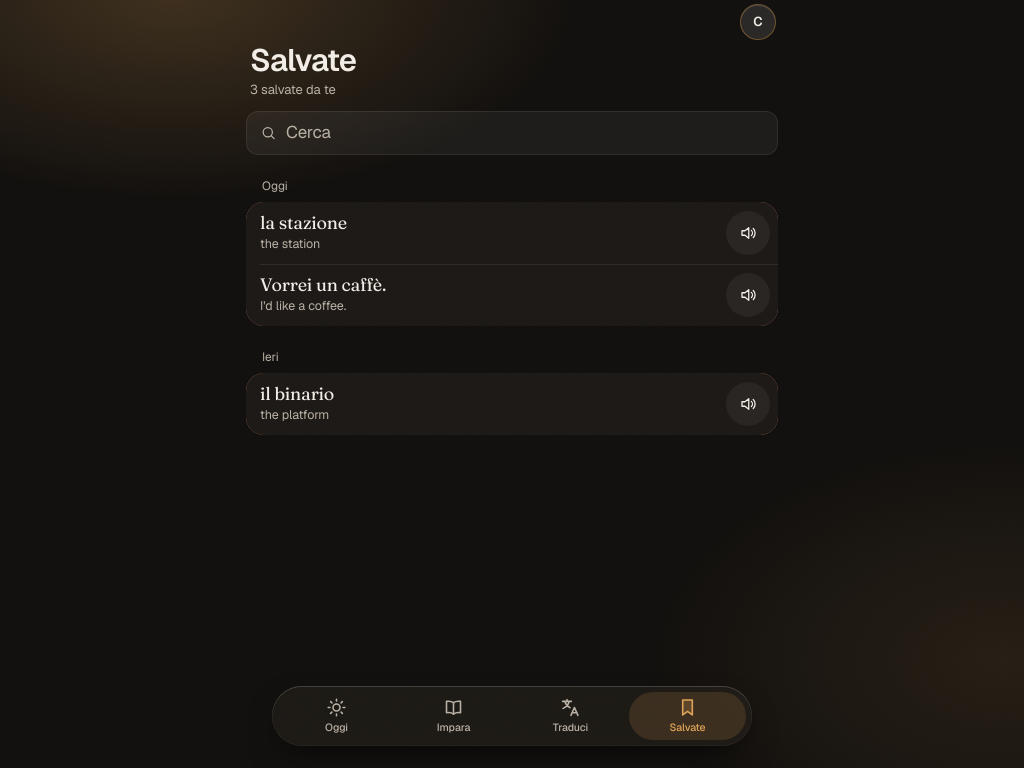
Test: Salvate › puts the row back when the delete fails
The width and height of the screenshot is (1024, 768).
Click the text "il binario" at [297, 394], box [260, 382, 334, 405]
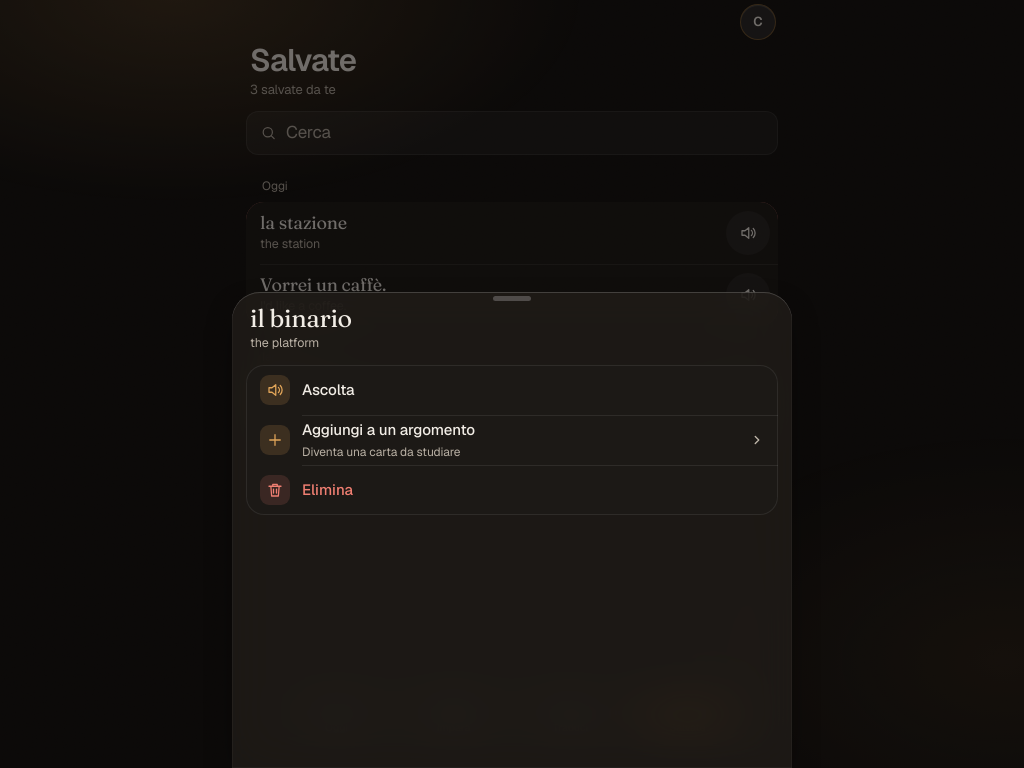
Click the button "Elimina" at [327, 489], box [246, 465, 778, 515]
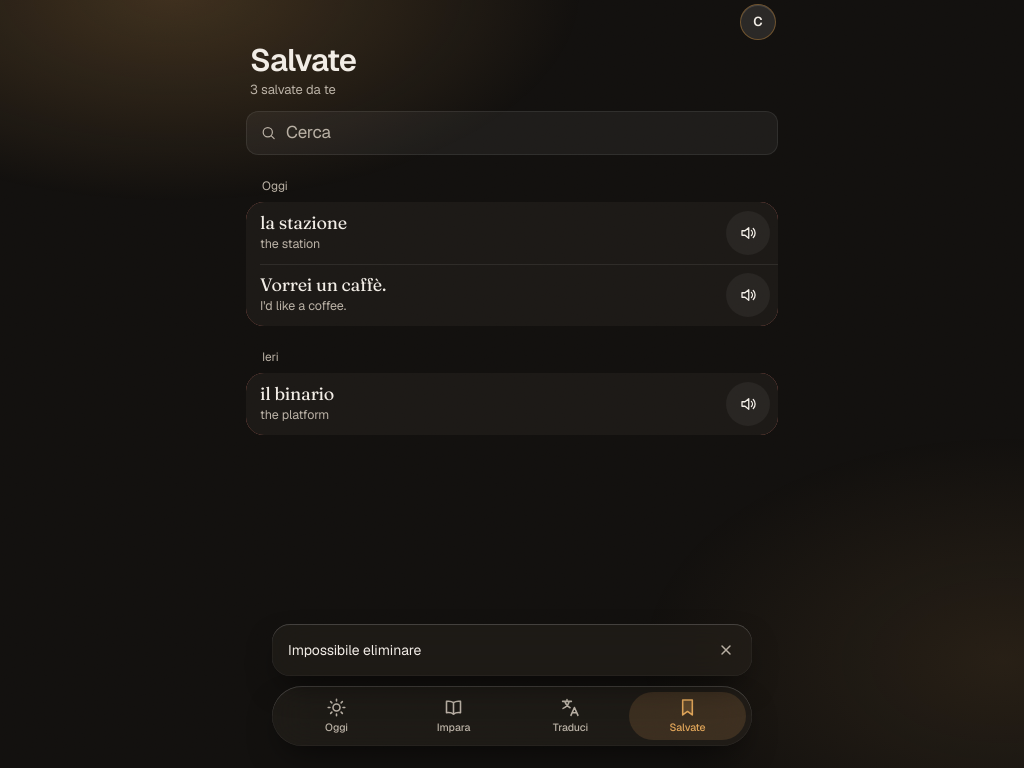
Expected: the text "3 salvate da te" is shown, [250, 80, 336, 98]
Expected: the message reads "Impossibile eliminare", [288, 640, 421, 658]
